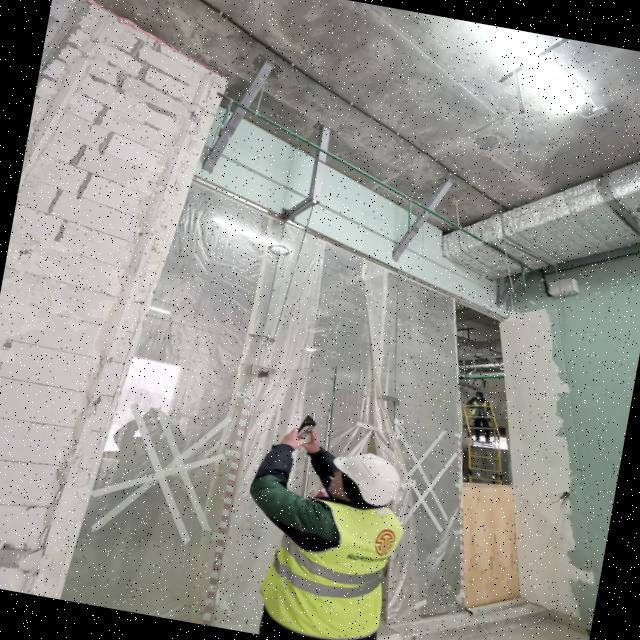Helmet: (324, 447, 408, 515)
Jacket: (278, 490, 405, 640)
